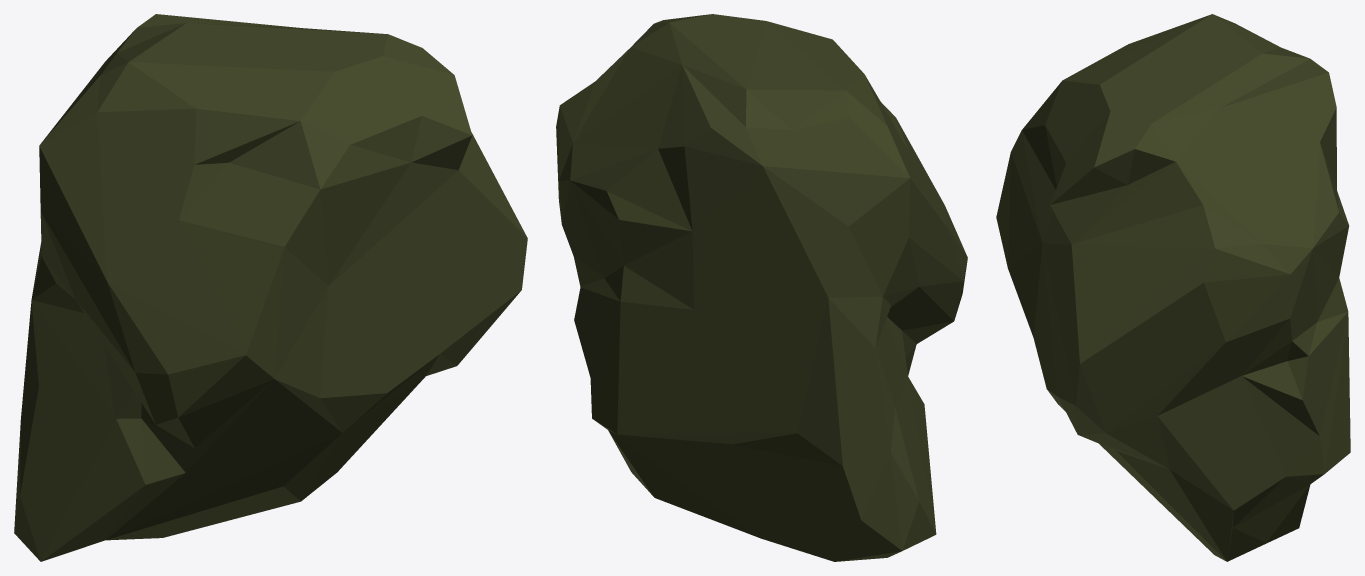
File: SM_small_rock_01.fbx
The picture shows the model from 3 angles, left to right: view 1: azimuth 30°, elevation 25°; view 2: azimuth 150°, elevation 25°; view 3: azimuth 270°, elevation 25°; orthographic projection. The views are drawn at different scales.
Parts seen in each view (by area): view 1: small_rock_01; view 2: small_rock_01; view 3: small_rock_01.
Boxes of the visible parts, x1=… form: small_rock_01: x1=14, y1=14, x2=527, y2=561; small_rock_01: x1=556, y1=14, x2=967, y2=561; small_rock_01: x1=996, y1=14, x2=1350, y2=561.
Bounding box in the file's own units: 13.66 × 15.24 × 10.36.
